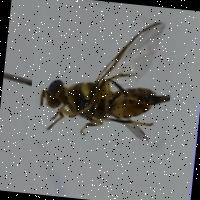Oriental-fruit-fly: (25, 4, 177, 152)
